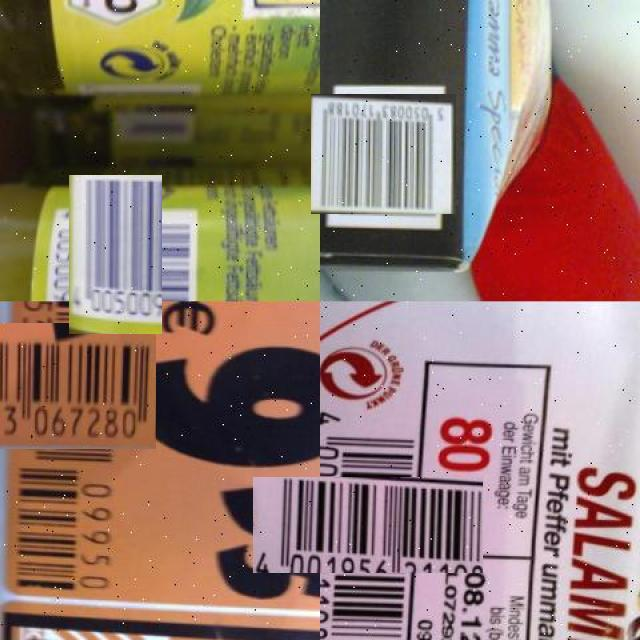Barcode: (286, 443, 450, 606), (0, 312, 145, 459), (317, 88, 450, 221), (52, 191, 179, 317)
